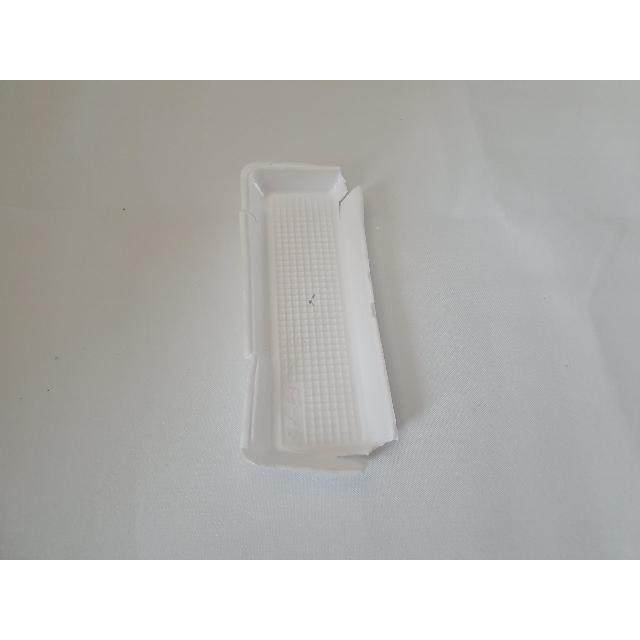Plastico descartable: (239, 164, 398, 474)
